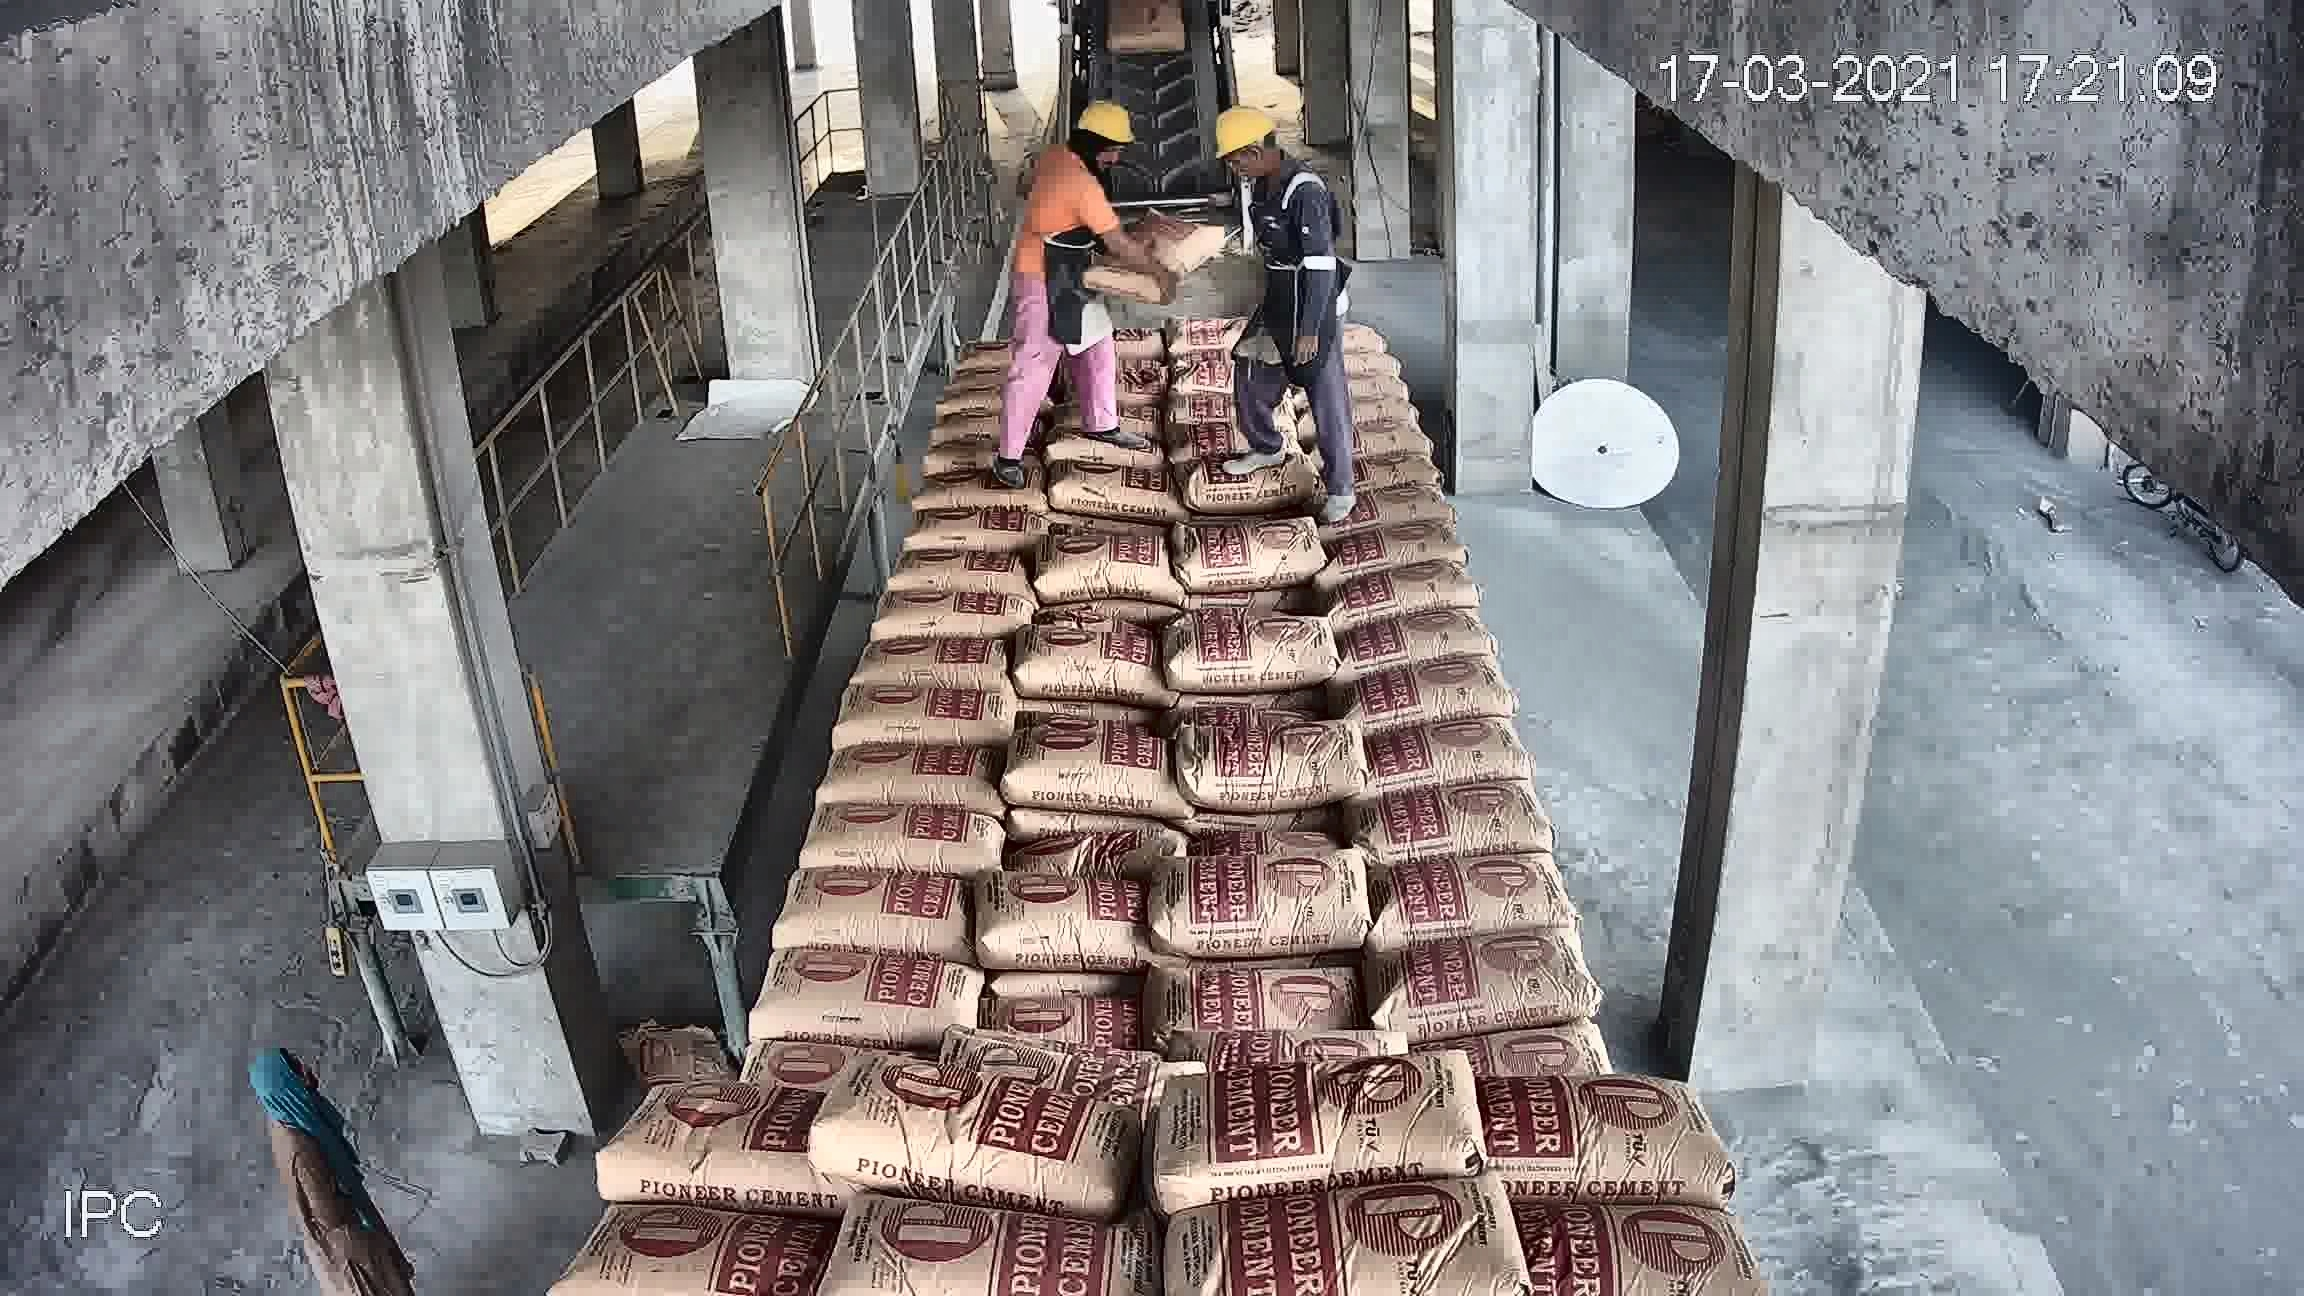bag: (1093, 193, 1230, 324)
bag_h: (1136, 1036, 1491, 1207), (1130, 923, 1461, 1079), (1152, 1179, 1541, 1296), (1141, 802, 1431, 949), (805, 1062, 1135, 1190), (633, 938, 881, 1086), (1457, 949, 1698, 1097), (1446, 1070, 1742, 1184), (873, 949, 1127, 1078), (1152, 714, 1389, 850), (881, 847, 1146, 953), (585, 1074, 804, 1203), (1391, 842, 1658, 943), (680, 842, 911, 959), (817, 1214, 1130, 1296), (896, 742, 1149, 839), (1511, 1190, 1752, 1291), (557, 1201, 812, 1296), (722, 771, 900, 885), (1393, 760, 1601, 856), (1063, 669, 1179, 752), (1067, 567, 1173, 638), (1155, 559, 1272, 622), (828, 695, 961, 748), (1173, 661, 1256, 744), (1168, 617, 1271, 676), (1065, 628, 1169, 680), (817, 742, 916, 788), (850, 635, 930, 687)
belt: (992, 28, 1296, 536)
